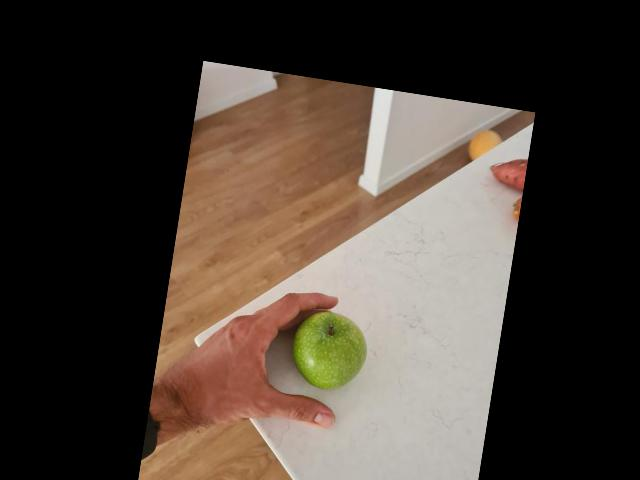apple: (292, 308, 367, 394)
